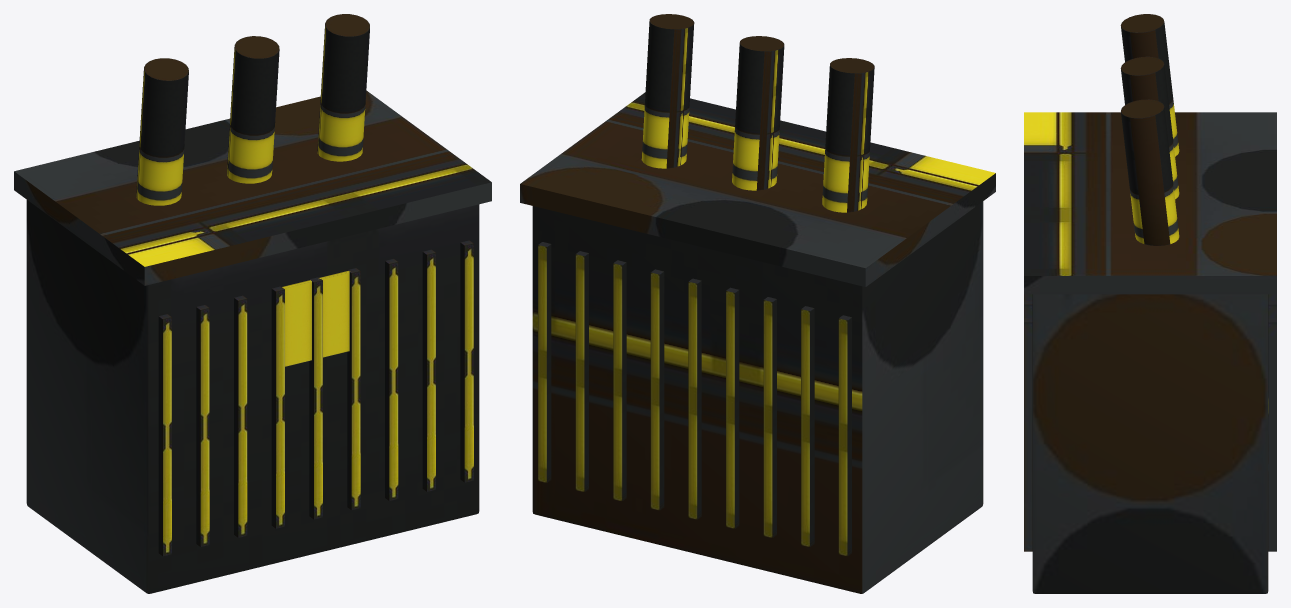
The model's file is PR_transformer.glb.
The picture shows the model from 3 angles, left to right: view 1: azimuth 30°, elevation 25°; view 2: azimuth 150°, elevation 25°; view 3: azimuth 270°, elevation 25°; orthographic projection. The views are drawn at different scales.
Parts seen in each view (by area): view 1: PR_transformer; view 2: PR_transformer; view 3: PR_transformer.
Part boxes in pixels (left/top/right/bottom): PR_transformer: left=14, top=14, right=491, bottom=593; PR_transformer: left=520, top=14, right=995, bottom=593; PR_transformer: left=1024, top=14, right=1276, bottom=593.
Bounding box in the file's own units: 2.3 × 2.96 × 1.5.
1 material, 1 textured.
